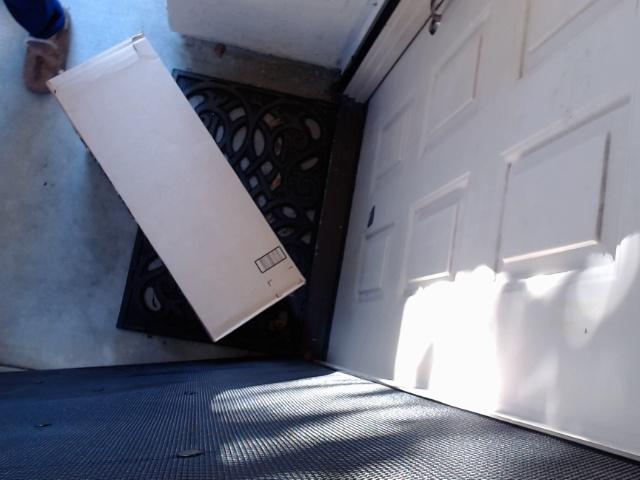box: (50, 16, 317, 345)
